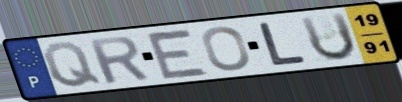E: (143, 28, 212, 81)
L: (256, 20, 310, 67)
O: (200, 25, 253, 73)
Q: (40, 40, 105, 89)
R: (84, 34, 152, 86)
U: (297, 10, 359, 63)
